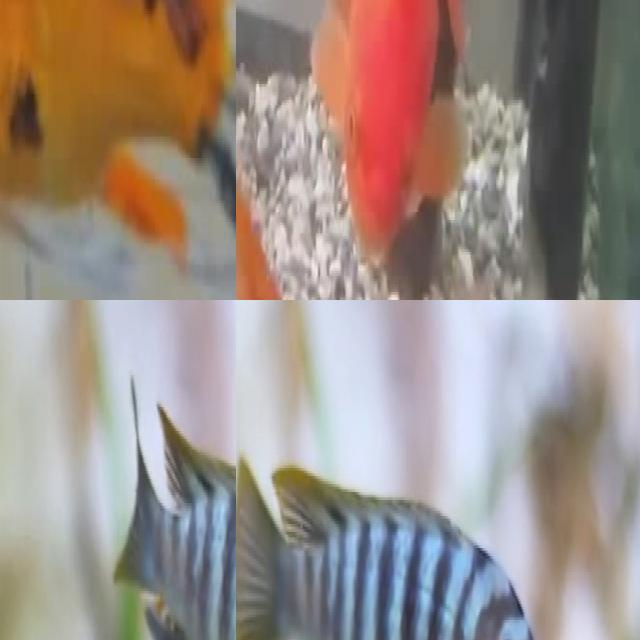fish: (0, 0, 236, 300), (314, 0, 493, 300), (112, 377, 236, 640)
